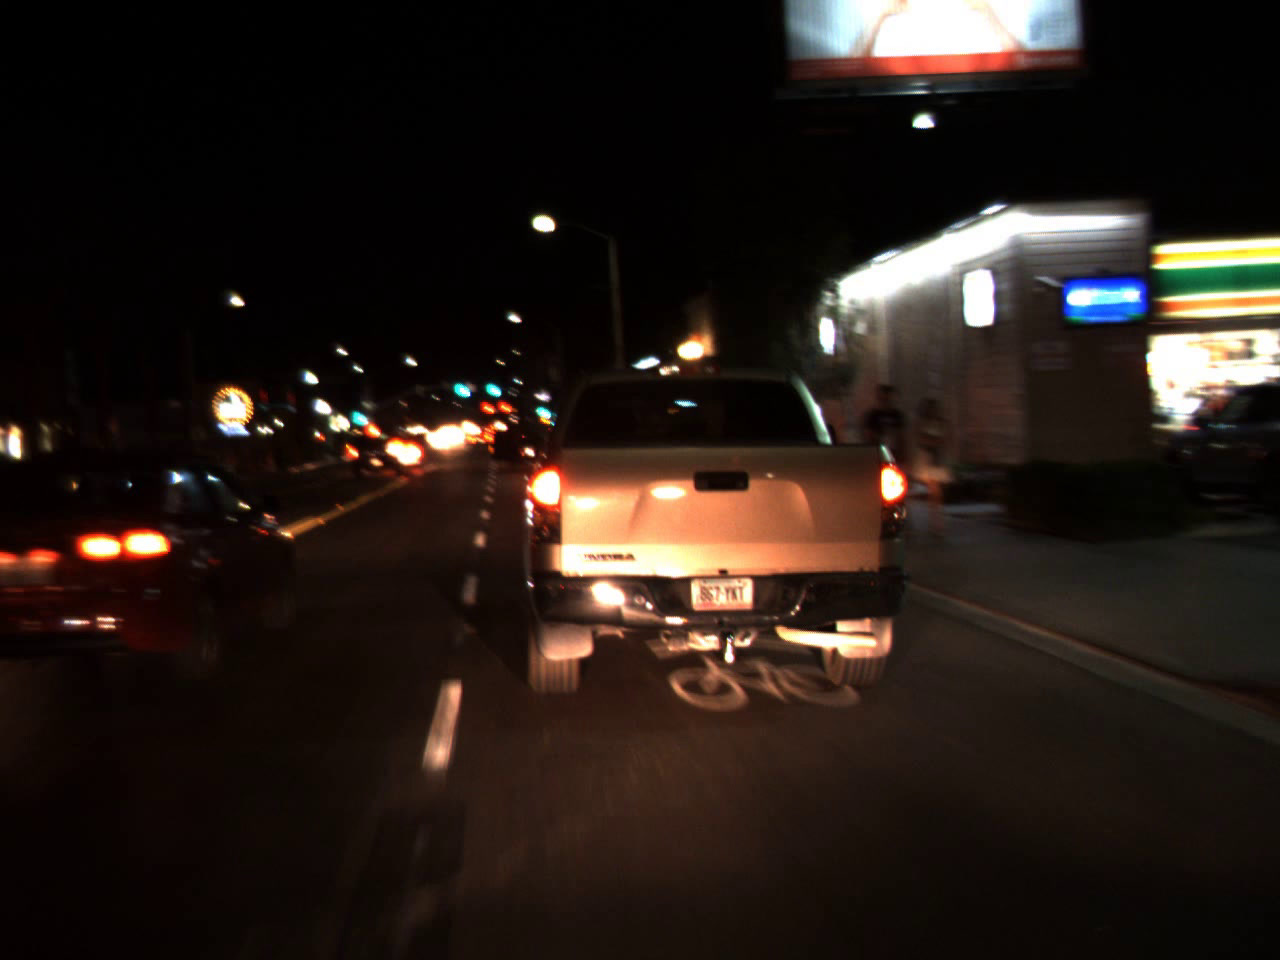go: (449, 364, 468, 403), (481, 367, 500, 400), (350, 392, 364, 431), (530, 399, 555, 417)
